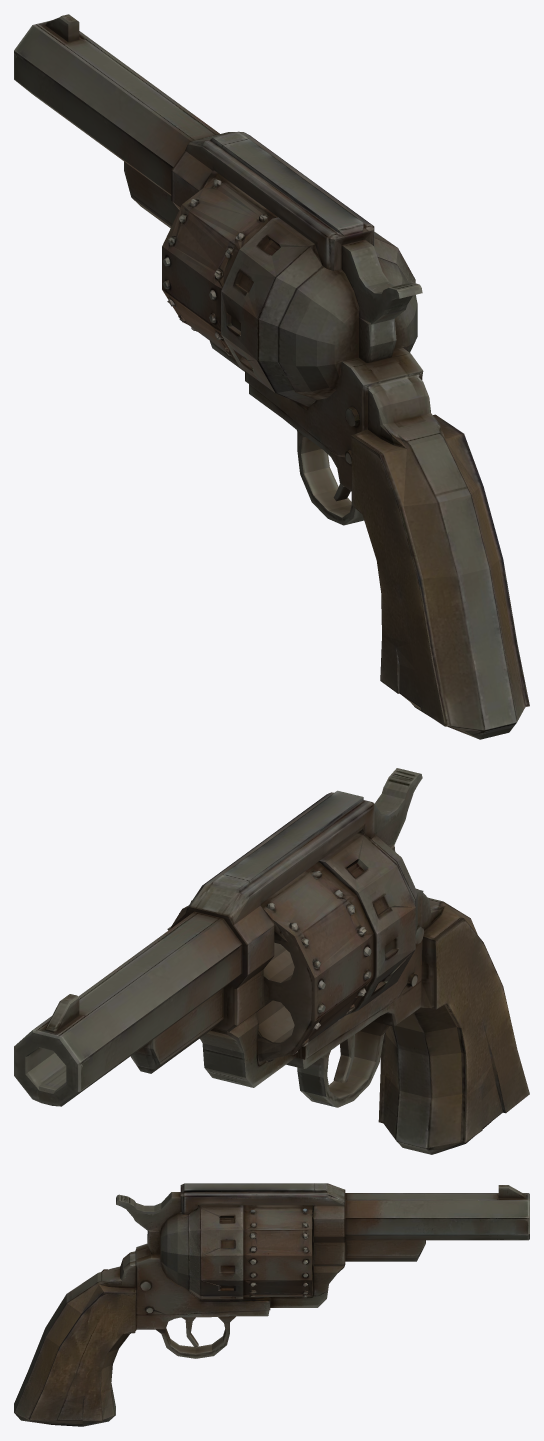
Rendered from revolver.glb.
3 views of the same model, one above another, from view 1: azimuth 30°, elevation 25°; view 2: azimuth 150°, elevation 25°; view 3: azimuth 270°, elevation 25° (orthographic). The views are drawn at different scales.
Parts seen in each view (by area): view 1: tripo_node_15f50097-5a62-4cfc-8268-634c6b0b5288; view 2: tripo_node_15f50097-5a62-4cfc-8268-634c6b0b5288; view 3: tripo_node_15f50097-5a62-4cfc-8268-634c6b0b5288.
Boxes of the visible parts, x1,y1,x2,y2 form: tripo_node_15f50097-5a62-4cfc-8268-634c6b0b5288: [14, 14, 529, 739]; tripo_node_15f50097-5a62-4cfc-8268-634c6b0b5288: [14, 768, 529, 1154]; tripo_node_15f50097-5a62-4cfc-8268-634c6b0b5288: [14, 1183, 529, 1426].
Bounding box in the file's own units: 0.2016 × 0.499 × 1.
1 material, 1 textured.
